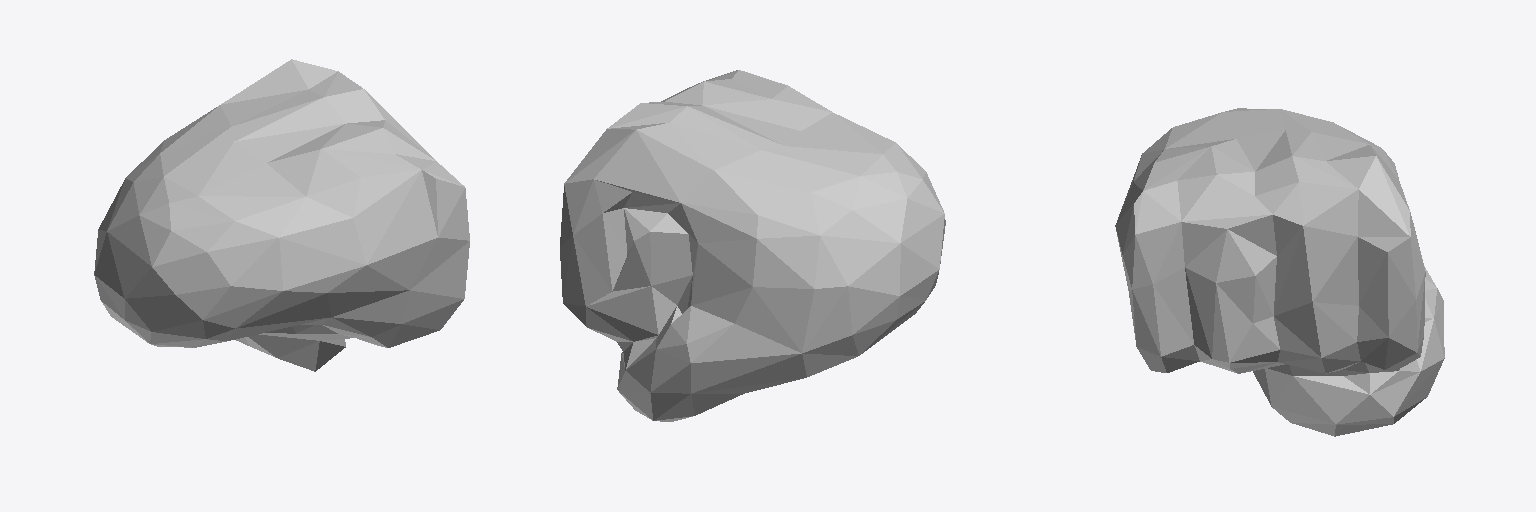
File: HotHands_FistFinal.obj
3 renders of one model, left to right at view 1: azimuth 30°, elevation 25°; view 2: azimuth 150°, elevation 25°; view 3: azimuth 270°, elevation 25°, orthographic.
Parts seen in each view (by area): view 1: Cube; view 2: Cube; view 3: Cube.
Boxes of the visible parts, <box> form: Cube: <box>94,59,469,371</box>; Cube: <box>560,70,945,421</box>; Cube: <box>1115,108,1444,436</box>.
Bounding box in the file's own units: 6.53 × 5.81 × 6.15.